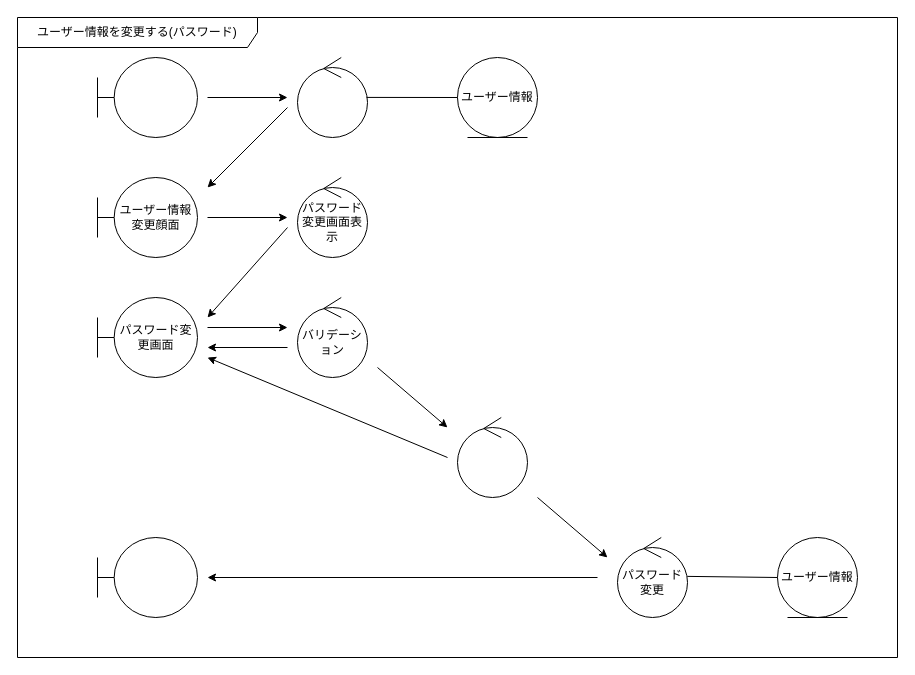
Image size: 915x675. Some labels were removed from this diagram. Each missing label, with the centre of its shape:
"ユーザー情報変更画面" belongs at point (147, 577).
"ユーザー情報変更画面表示" belongs at point (332, 97).
"商品検索画面" belongs at point (147, 97).
"現在のパスワード照合" belongs at point (492, 457).
